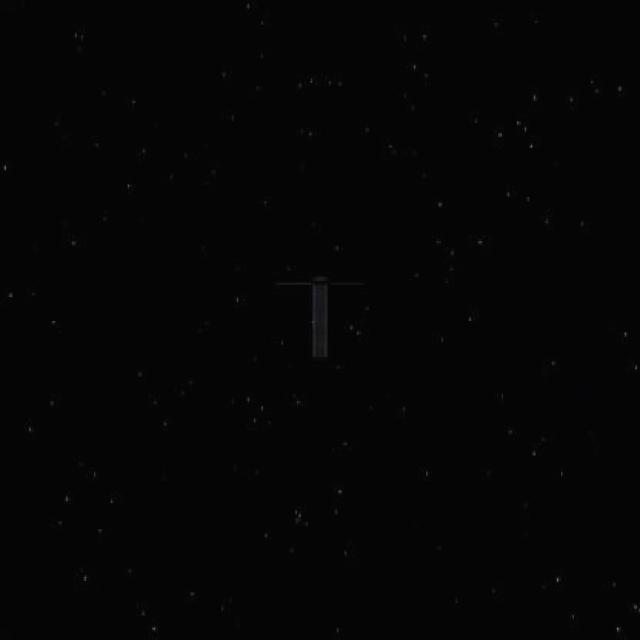satellite: (269, 266, 383, 360)
